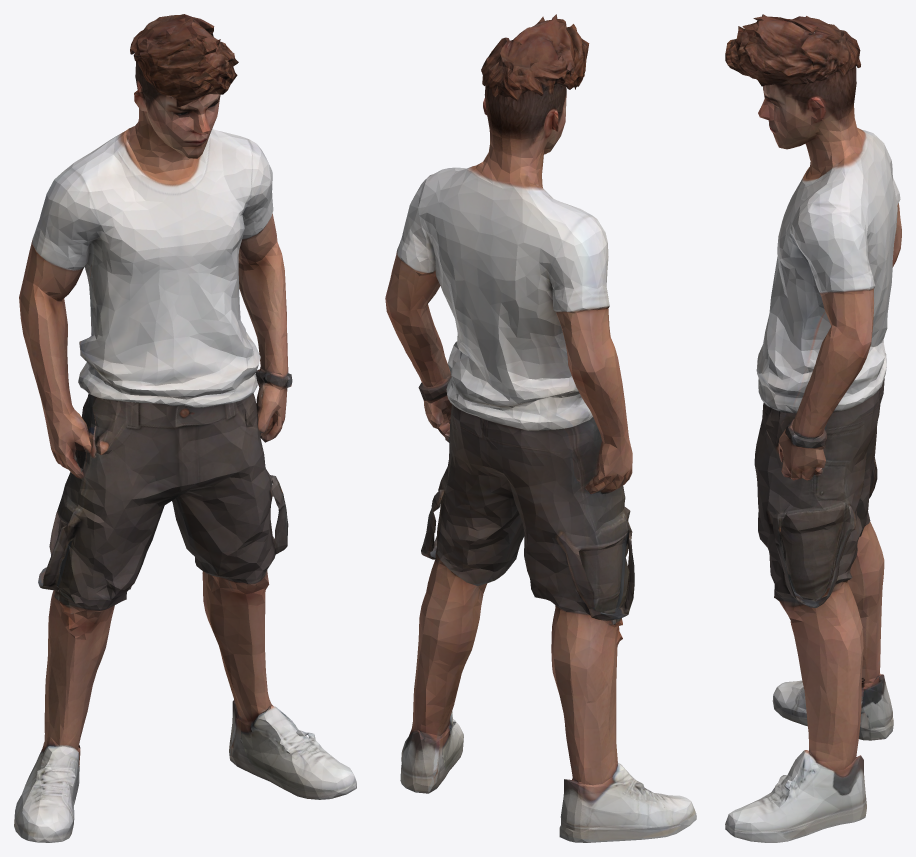
Rendered from Game_Ready_Photo_Real_0826070111_texture.fbx.
The picture shows the model from 3 angles, left to right: view 1: azimuth 30°, elevation 25°; view 2: azimuth 150°, elevation 25°; view 3: azimuth 270°, elevation 25°; orthographic projection. The views are drawn at different scales.
Visible parts, largest first — view 1: temp; view 2: temp; view 3: temp.
Boxes of the visible parts, x1,y1,x2,y2 form: temp: (14, 14, 356, 842); temp: (385, 14, 696, 842); temp: (725, 14, 901, 842).
Size of the model in its own units: 80.62 by 198 by 41.77.
Materials: 1 (1 with a texture image).
